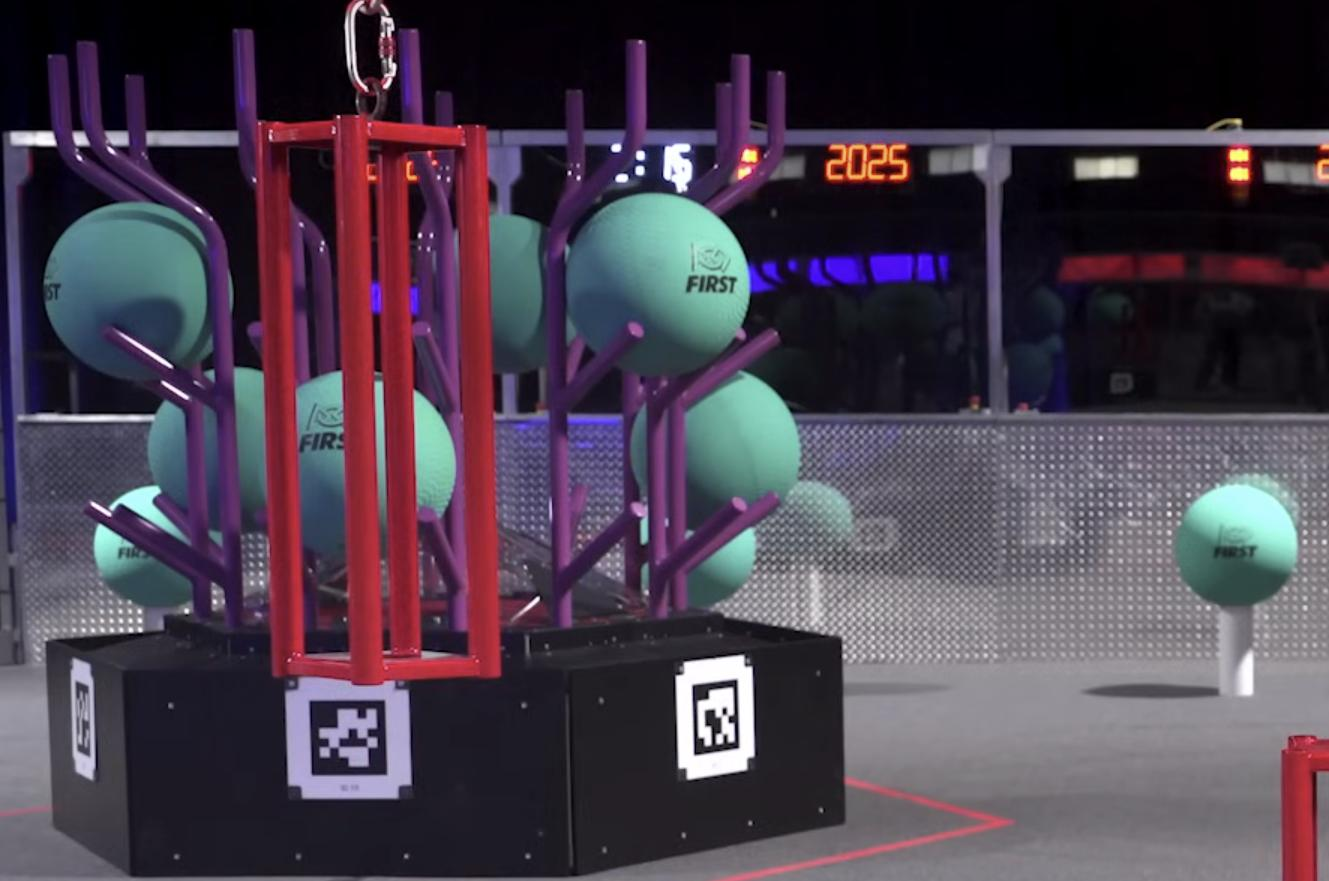algae: (257, 369, 456, 554), (567, 191, 752, 378), (44, 199, 235, 378), (633, 369, 801, 534), (150, 368, 265, 534), (459, 213, 572, 375), (1169, 484, 1301, 606), (95, 487, 221, 607), (688, 530, 757, 608)
coral: (1215, 604, 1259, 698), (146, 608, 182, 631)
